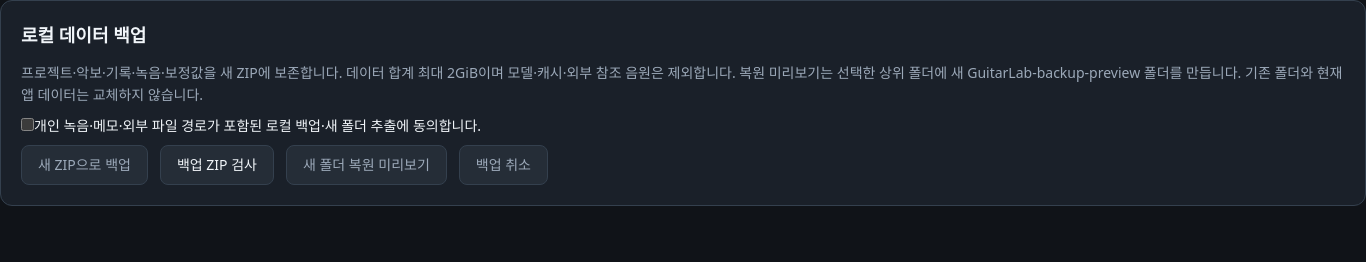
Test case: 백업 동의 없이 직접 선택한 ZIP만 검사하고 저장/복원 성공으로 표시하지 않는다
Click the button "백업 ZIP 검사" at (217,165), box [160, 145, 274, 185]
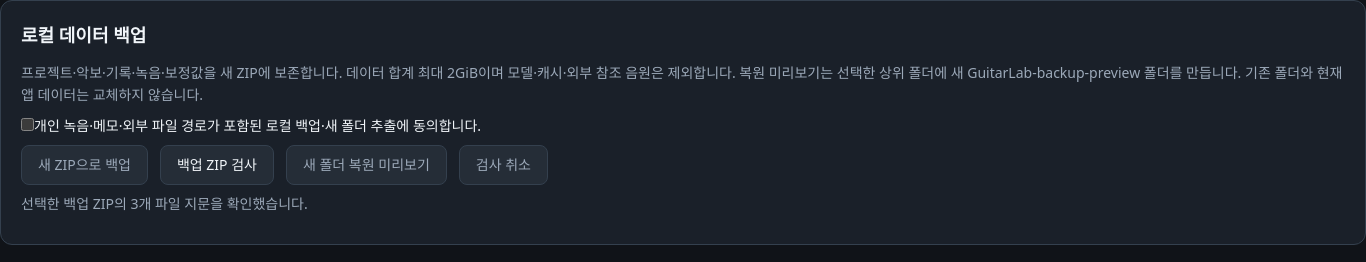
Check: the text "선택한 백업 ZIP의 3개 파일 지문을 확인했습니다." is shown, box [21, 194, 308, 213]
